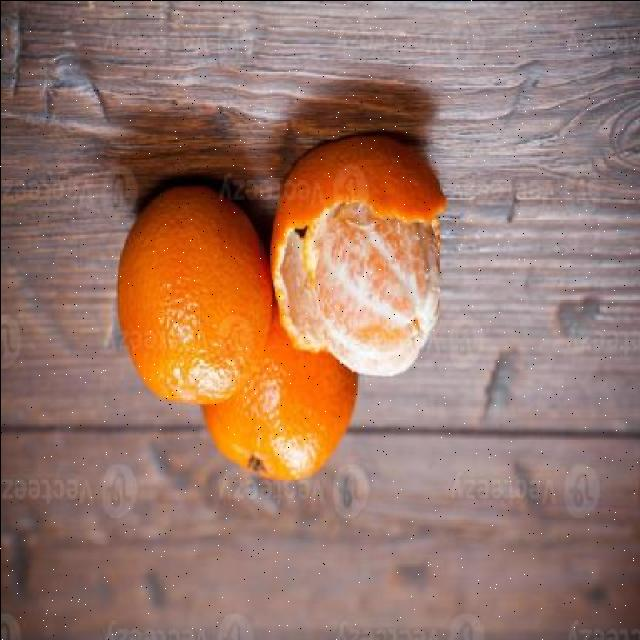Orange: (270, 134, 448, 378), (115, 185, 274, 406), (202, 311, 358, 483)
